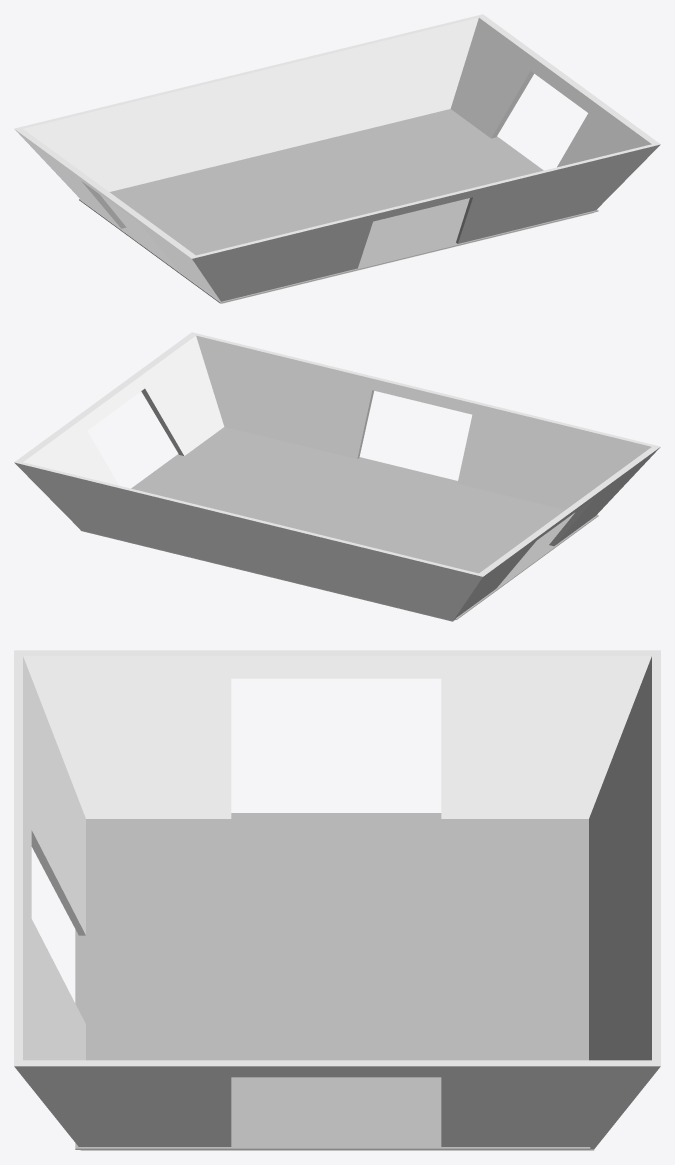
The model's file is Room3.obj.
The picture shows the model from 3 angles, top to bottom: view 1: azimuth 30°, elevation 25°; view 2: azimuth 150°, elevation 25°; view 3: azimuth 270°, elevation 25°; orthographic projection. The views are drawn at different scales.
Visible parts, largest first — view 1: StartRoom, Piso3; view 2: StartRoom, Piso3; view 3: StartRoom, Piso3.
Part boxes in pixels (x1,y1,x2,y2): StartRoom: (14,14,660,303); Piso3: (79,109,598,303); StartRoom: (14,332,660,621); Piso3: (131,427,598,619); StartRoom: (14,650,660,1150); Piso3: (75,813,590,1149).
Bounding box in the file's own units: 35 × 5 × 23.
